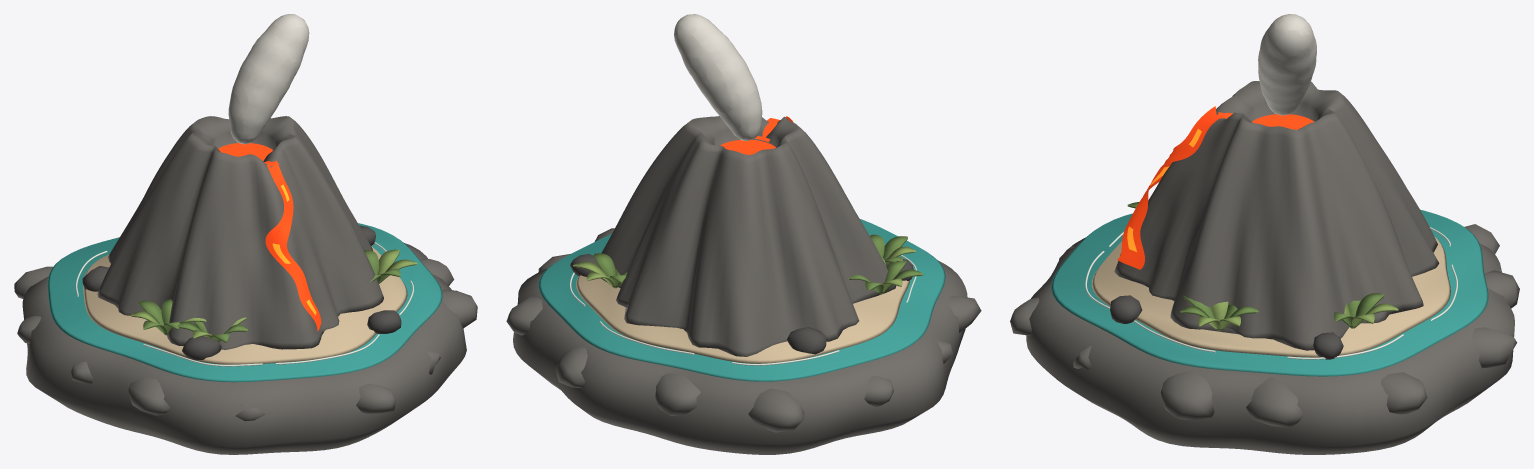
Rendered from volcano-island-v4.fbx.
3 renders of one model, left to right at view 1: azimuth 30°, elevation 25°; view 2: azimuth 150°, elevation 25°; view 3: azimuth 270°, elevation 25°, orthographic. The views are drawn at different scales.
Visible parts, largest first — view 1: Volcano | hollow fluted mountain, Rock | irregular island foundation, Water | enclosed turquoise lagoon, Sand | island shore, Smoke | blended plume.001, Lava | continuous winding flow, Rock | shoreline boulder.007, Rock | shoreline boulder.009, Rock | shoreline boulder.011, Rock | beach stone, Rock | beach stone.001, Lava | crater pool (+1 smaller); view 2: Volcano | hollow fluted mountain, Rock | irregular island foundation, Water | enclosed turquoise lagoon, Sand | island shore, Smoke | blended plume.001, Rock | shoreline boulder.004, Rock | shoreline boulder.003, Rock | shoreline boulder.002, Rock | shoreline boulder.001, Rock | beach stone.003, Rock | shoreline boulder.007, Rock | shoreline boulder.005 (+1 smaller); view 3: Volcano | hollow fluted mountain, Rock | irregular island foundation, Water | enclosed turquoise lagoon, Sand | island shore, Smoke | blended plume.001, Lava | continuous winding flow, Rock | shoreline boulder.011, Rock | shoreline boulder, Rock | shoreline boulder.001, Rock | shoreline boulder.002, Rock | shoreline boulder.003, Rock | beach stone.001 (+3 smaller).
Boxes of the visible parts, x1,y1,x2,y2 form: Volcano | hollow fluted mountain: (97, 116, 383, 349); Rock | irregular island foundation: (22, 243, 466, 454); Water | enclosed turquoise lagoon: (47, 223, 442, 382); Sand | island shore: (83, 246, 407, 364); Smoke | blended plume.001: (228, 14, 309, 144); Lava | continuous winding flow: (265, 160, 321, 331); Rock | shoreline boulder.007: (128, 377, 169, 415); Rock | shoreline boulder.009: (356, 384, 396, 414); Rock | shoreline boulder.011: (442, 289, 477, 328); Rock | beach stone: (182, 336, 221, 359); Rock | beach stone.001: (367, 310, 401, 333); Lava | crater pool: (218, 143, 272, 160); Volcano | hollow fluted mountain: (601, 116, 896, 356); Rock | irregular island foundation: (513, 261, 967, 454); Water | enclosed turquoise lagoon: (538, 219, 945, 381); Sand | island shore: (576, 275, 909, 363); Smoke | blended plume.001: (674, 14, 762, 141); Rock | shoreline boulder.004: (748, 388, 804, 432); Rock | shoreline boulder.003: (655, 373, 700, 415); Rock | shoreline boulder.002: (555, 347, 587, 388); Rock | shoreline boulder.001: (506, 297, 542, 335); Rock | beach stone.003: (786, 327, 826, 354); Rock | shoreline boulder.007: (948, 296, 981, 332); Rock | shoreline boulder.005: (864, 376, 893, 406); Volcano | hollow fluted mountain: (1114, 81, 1439, 350); Rock | irregular island foundation: (1026, 237, 1514, 454); Water | enclosed turquoise lagoon: (1051, 209, 1488, 376); Sand | island shore: (1091, 236, 1450, 357); Smoke | blended plume.001: (1258, 14, 1316, 115); Lava | continuous winding flow: (1117, 106, 1222, 269); Rock | shoreline boulder.011: (1160, 370, 1214, 420); Rock | shoreline boulder: (1246, 377, 1303, 427); Rock | shoreline boulder.001: (1381, 372, 1427, 414); Rock | shoreline boulder.002: (1472, 327, 1516, 368); Rock | shoreline boulder.003: (1484, 270, 1519, 308); Rock | beach stone.001: (1110, 295, 1142, 323).
Size of the model in its own units: 165 by 135 by 164.
